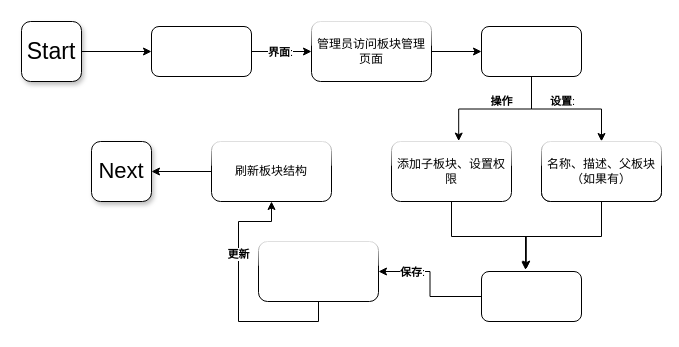
This 679x347 diagram has some shape labels left out. Here are the shapes that lost their labels. From the top down, the centre of each, then its label:
At pixel 201 51: "板块管理工具".
At pixel 531 51: "创建/管理板块".
At pixel 318 271: "将板块数据保存到数据库".
At pixel 531 296: "保存并更新板块信息".
